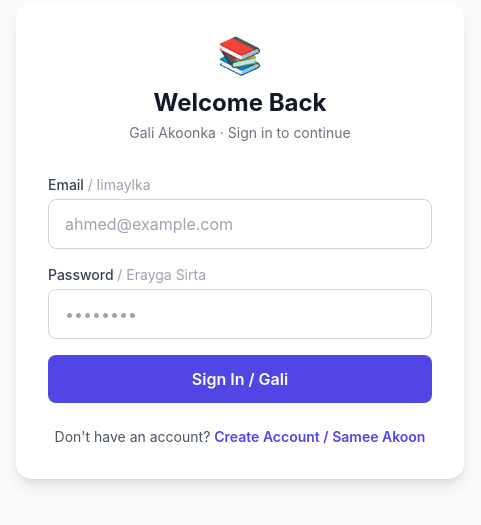
Scenario: Login mode › shows "Invalid email address" for a malformed email
Type "notanemail" into the field with placeholder "ahmed@example.com".
click(240, 224); type("notanemail")  # box x1=48 y1=199 x2=432 y2=249
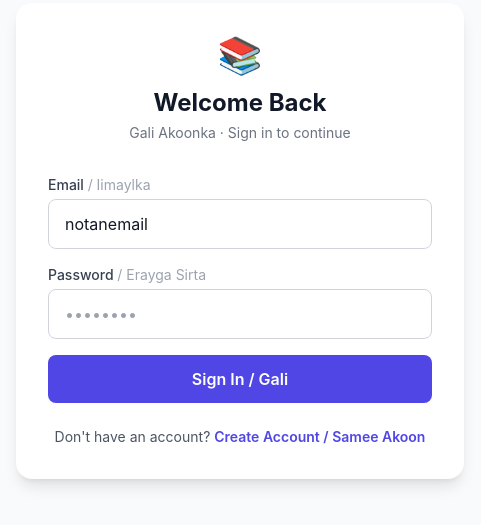
Click the button "Sign In / Gali".
click(240, 379)  # box x1=48 y1=355 x2=432 y2=403
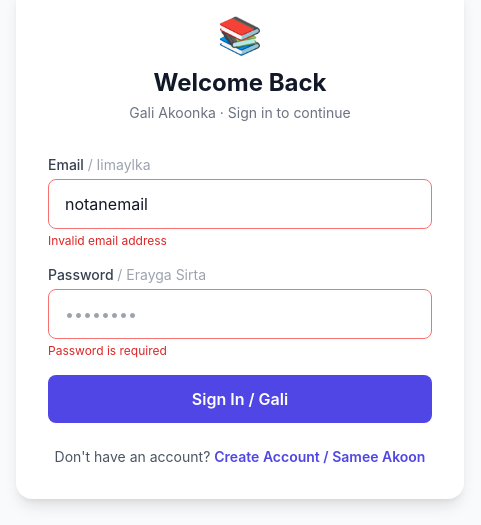
Expected: the text "Invalid email address" is shown, x1=48 y1=233 x2=167 y2=248
